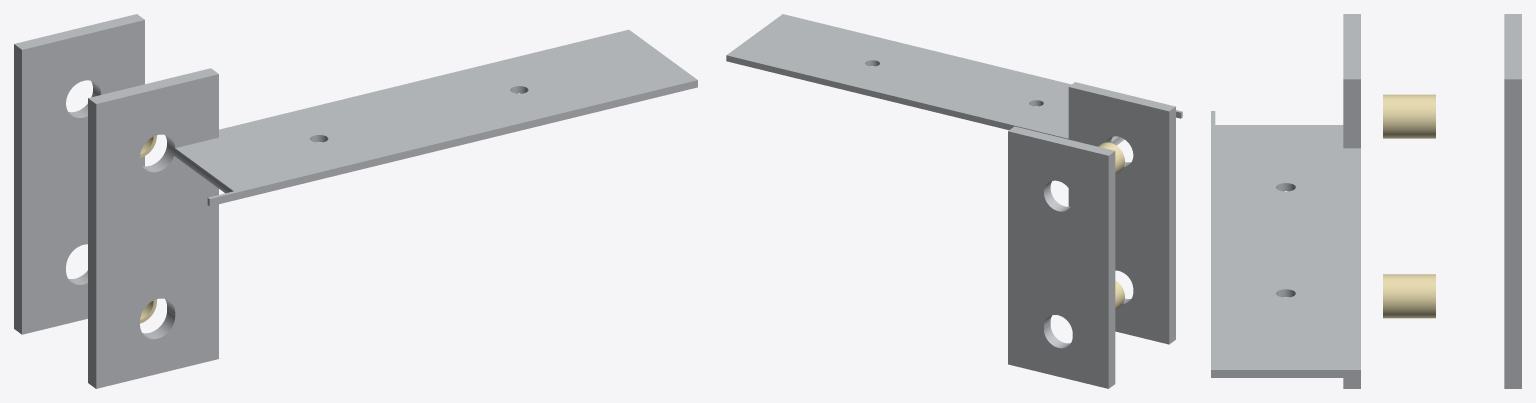
Rendered from car_A1_4.glb.
The picture shows the model from 3 angles, left to right: view 1: azimuth 30°, elevation 25°; view 2: azimuth 150°, elevation 25°; view 3: azimuth 270°, elevation 25°; orthographic projection. The views are drawn at different scales.
Visible parts, largest first — view 1: =>[0:1:1:5], =>[0:1:1:6]; view 2: =>[0:1:1:5], =>[0:1:1:6]; view 3: =>[0:1:1:5], =>[0:1:1:6], =>[0:1:1:8], =>[0:1:1:10].
Part boxes in pixels (left/top/right/bottom): =>[0:1:1:5]: left=88, top=29, right=697, bottom=388; =>[0:1:1:6]: left=14, top=14, right=144, bottom=334; =>[0:1:1:5]: left=726, top=14, right=1182, bottom=344; =>[0:1:1:6]: left=1008, top=126, right=1115, bottom=388; =>[0:1:1:5]: left=1211, top=14, right=1360, bottom=388; =>[0:1:1:6]: left=1504, top=14, right=1521, bottom=388; =>[0:1:1:8]: left=1383, top=94, right=1435, bottom=138; =>[0:1:1:10]: left=1383, top=274, right=1435, bottom=318.
Size of the model in its own units: 0.308 by 0.155 by 0.141.
